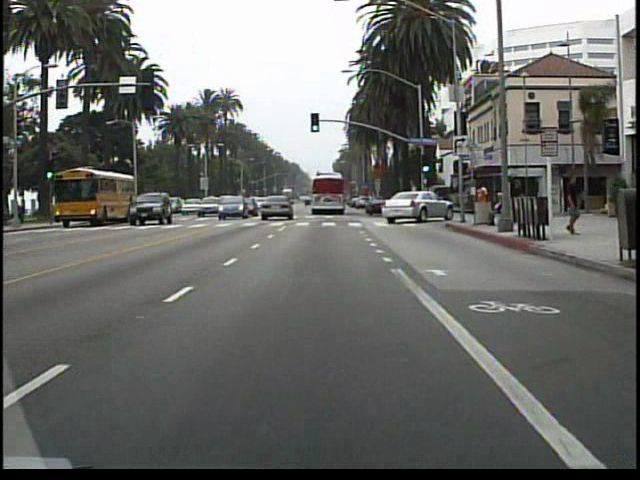person: (558, 170, 585, 238), (510, 178, 528, 227), (473, 181, 490, 224)
